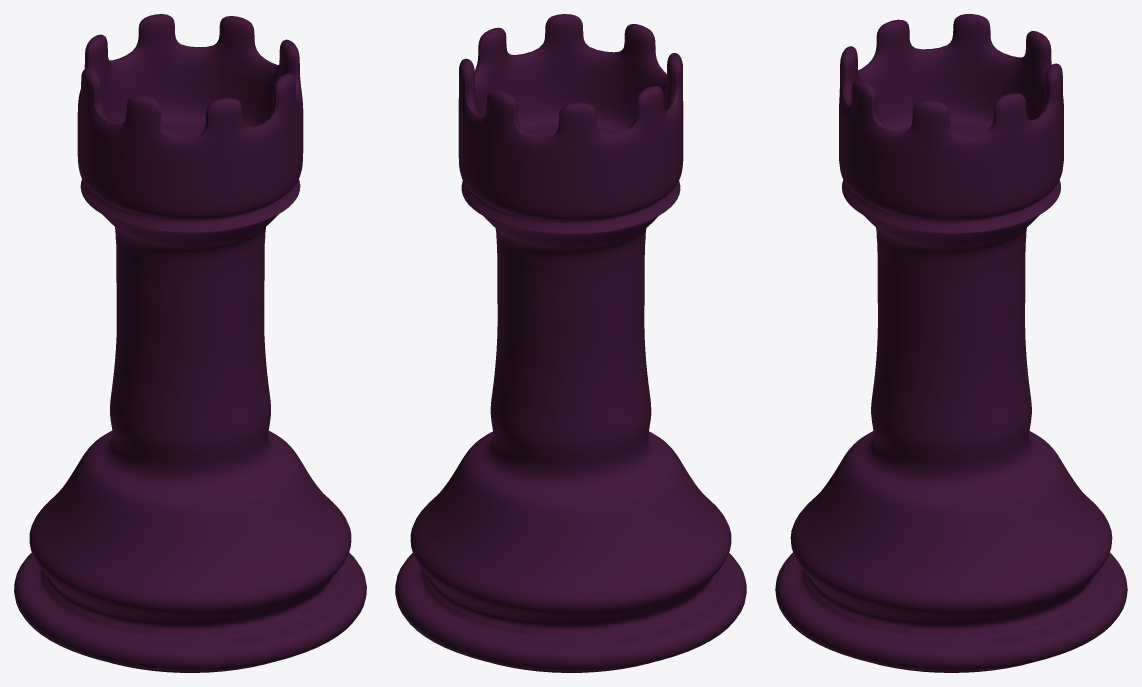
The model's file is Rook_Space Oddyssey.fbx.
3 views of the same model, side by side, from view 1: azimuth 30°, elevation 25°; view 2: azimuth 150°, elevation 25°; view 3: azimuth 270°, elevation 25° (orthographic).
Visible parts, largest first — view 1: Rook chess piece; view 2: Rook chess piece; view 3: Rook chess piece.
Part boxes in pixels (x1,y1,x2,y2): Rook chess piece: (14, 14, 366, 672); Rook chess piece: (395, 14, 746, 672); Rook chess piece: (775, 14, 1127, 672).
Bounding box in the file's own units: 195 × 340 × 195.
